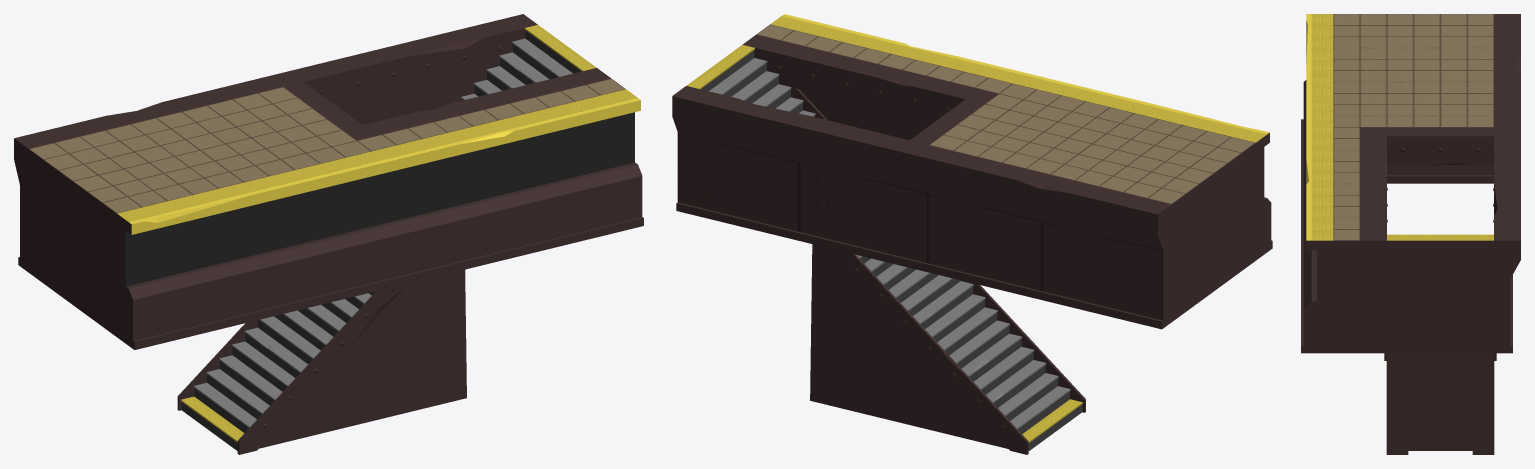
File: SW_ENV_EL_StationBaseStairTop.fbx
3 views of the same model, side by side, from view 1: azimuth 30°, elevation 25°; view 2: azimuth 150°, elevation 25°; view 3: azimuth 270°, elevation 25° (orthographic). The views are drawn at different scales.
Visible parts, largest first — view 1: SW_ENV_EL_StationBaseStairTop; view 2: SW_ENV_EL_StationBaseStairTop; view 3: SW_ENV_EL_StationBaseStairTop.
Boxes of the visible parts, box(x1,y1,x2,y2) form: SW_ENV_EL_StationBaseStairTop: box(14, 14, 643, 454); SW_ENV_EL_StationBaseStairTop: box(672, 14, 1272, 454); SW_ENV_EL_StationBaseStairTop: box(1301, 14, 1520, 454).
Size of the model in its own units: 1000 by 560 by 410.
